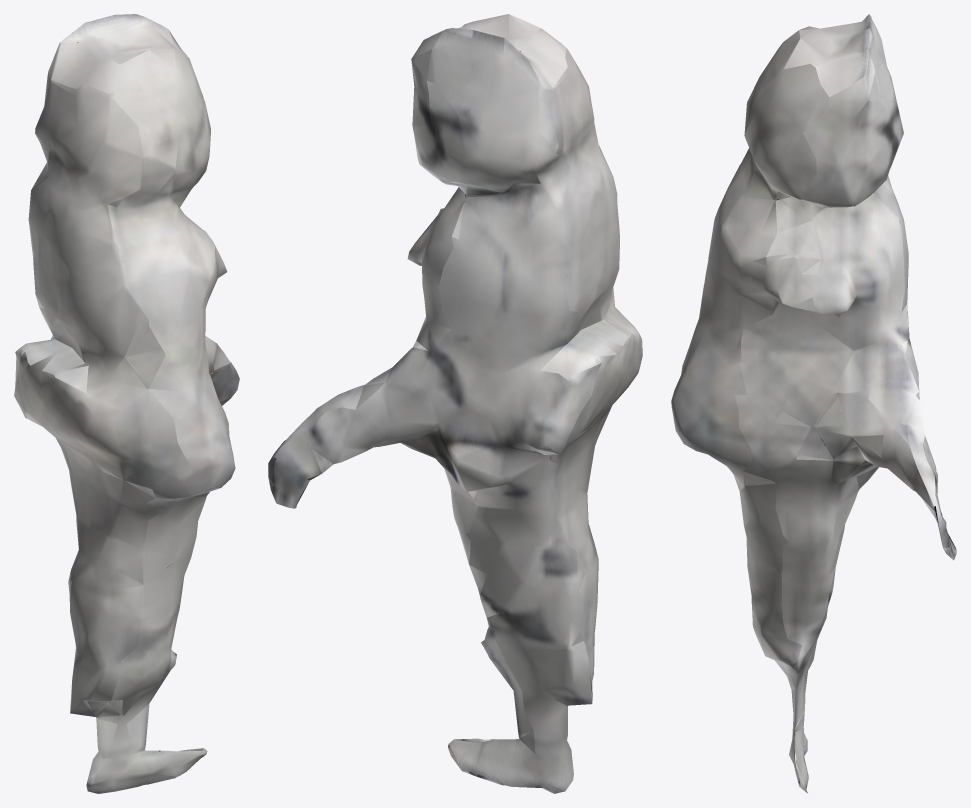
The picture shows the model from 3 angles, left to right: view 1: azimuth 30°, elevation 25°; view 2: azimuth 150°, elevation 25°; view 3: azimuth 270°, elevation 25°; orthographic projection. The views are drawn at different scales.
Parts seen in each view (by area): view 1: world; view 2: world; view 3: world.
Part boxes in pixels (x1=…): world: x1=14, y1=14, x2=239, y2=793; world: x1=268, y1=14, x2=642, y2=793; world: x1=671, y1=14, x2=956, y2=793.
Size of the model in its own units: 0.1884 by 0.4946 by 0.1707.
1 material, 1 textured.
